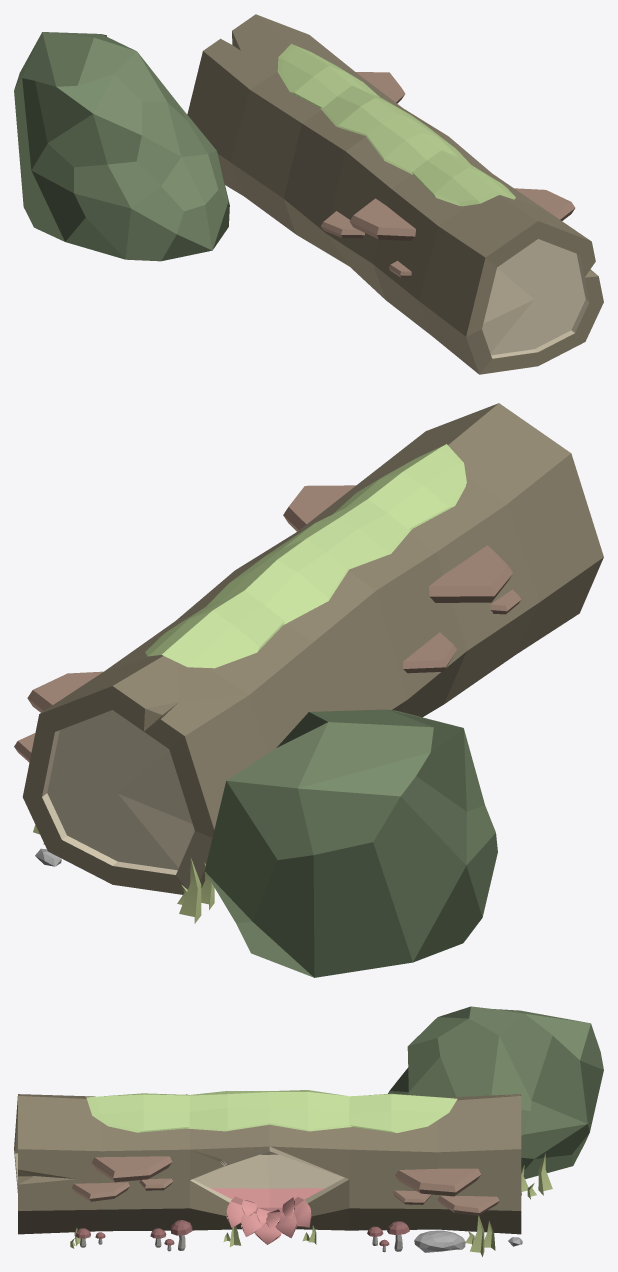
Rendered from MushDwellingModel.fbx.
3 views of the same model, one above another, from view 1: azimuth 30°, elevation 25°; view 2: azimuth 150°, elevation 25°; view 3: azimuth 270°, elevation 25° (orthographic). The views are drawn at different scales.
Visible parts, largest first — view 1: Mushs_Dwelling; view 2: Mushs_Dwelling; view 3: Mushs_Dwelling.
Boxes of the visible parts, x1,y1,x2,y2 form: Mushs_Dwelling: [14, 14, 603, 374]; Mushs_Dwelling: [14, 403, 603, 977]; Mushs_Dwelling: [14, 1006, 603, 1256].
Bounding box in the file's own units: 7.71 × 3.45 × 12.97.
